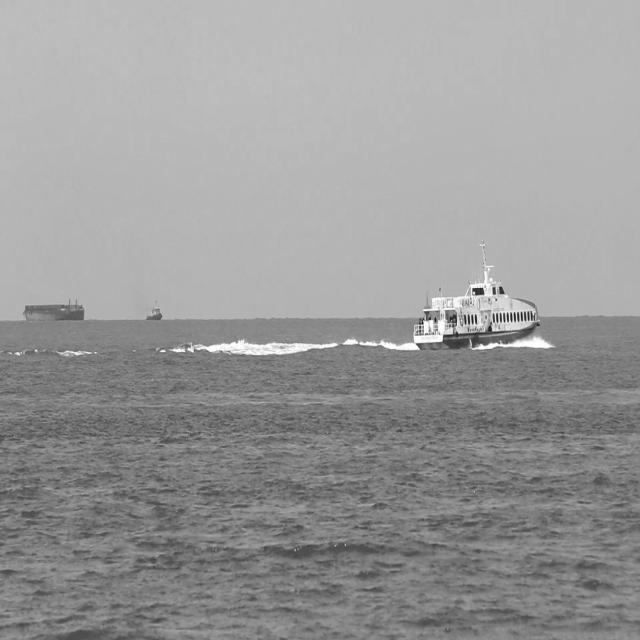ship: (408, 231, 546, 356), (20, 292, 86, 322), (142, 295, 164, 323)
